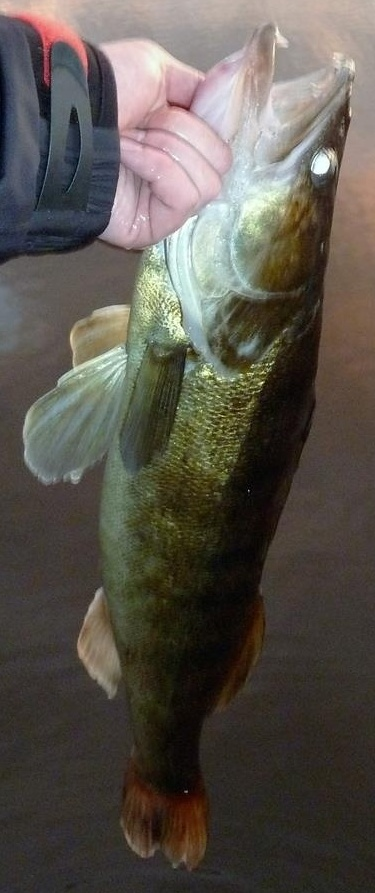Sander lucioperca: (20, 20, 355, 873)
